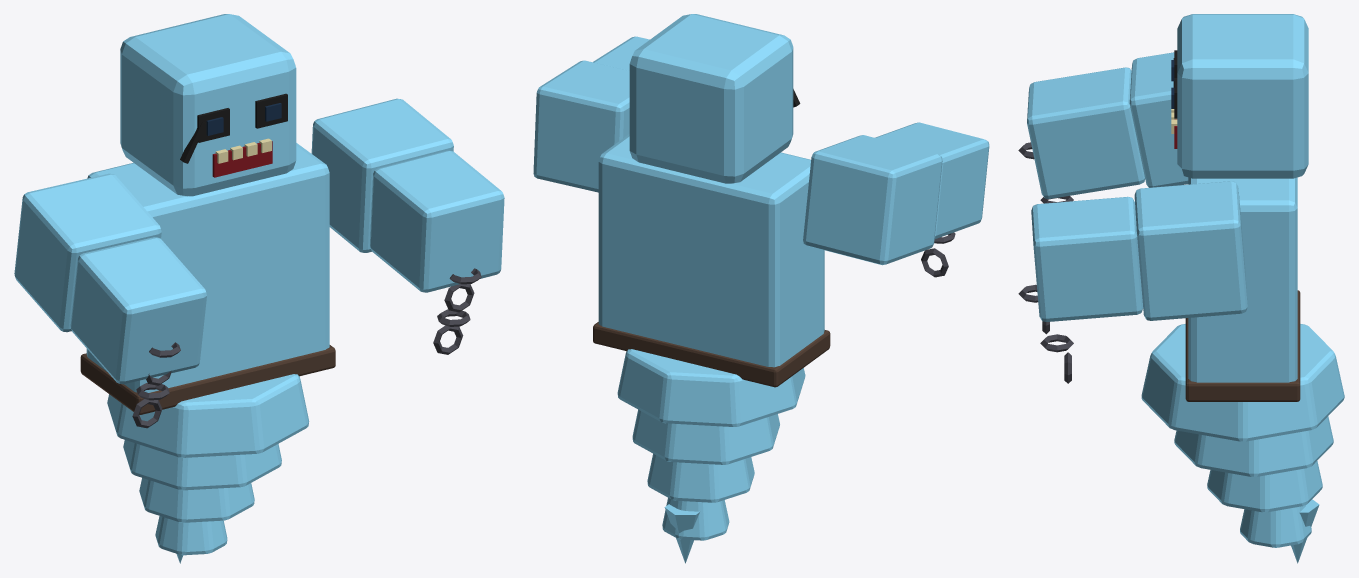
File: zombi_espectral.glb
3 views of the same model, side by side, from view 1: azimuth 30°, elevation 25°; view 2: azimuth 150°, elevation 25°; view 3: azimuth 270°, elevation 25° (orthographic). The views are drawn at different scales.
Parts seen in each view (by area): view 1: Torso, LeftArm, Head, RightArm; view 2: Torso, Head, LeftArm, RightArm; view 3: Torso, RightArm, Head, LeftArm.
Boxes of the visible parts, x1,y1,x2,y2 form: Torso: (80,143,335,563); LeftArm: (14,173,206,428); Head: (120,14,296,196); RightArm: (311,98,504,354); Torso: (593,134,830,563); Head: (629,14,800,183); LeftArm: (803,122,989,277); RightArm: (533,36,649,192); Torso: (1141,177,1344,563); RightArm: (1018,181,1247,383); Head: (1171,14,1308,178); LeftArm: (1018,52,1188,203).
Size of the model in its own units: 4 by 5.32 by 2.98.
Materials: 1 (1 with a texture image).
